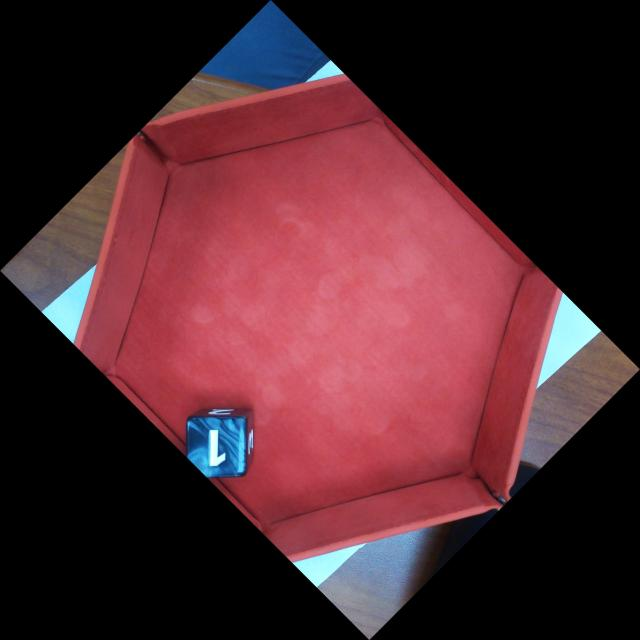dice: (189, 419, 243, 479)
